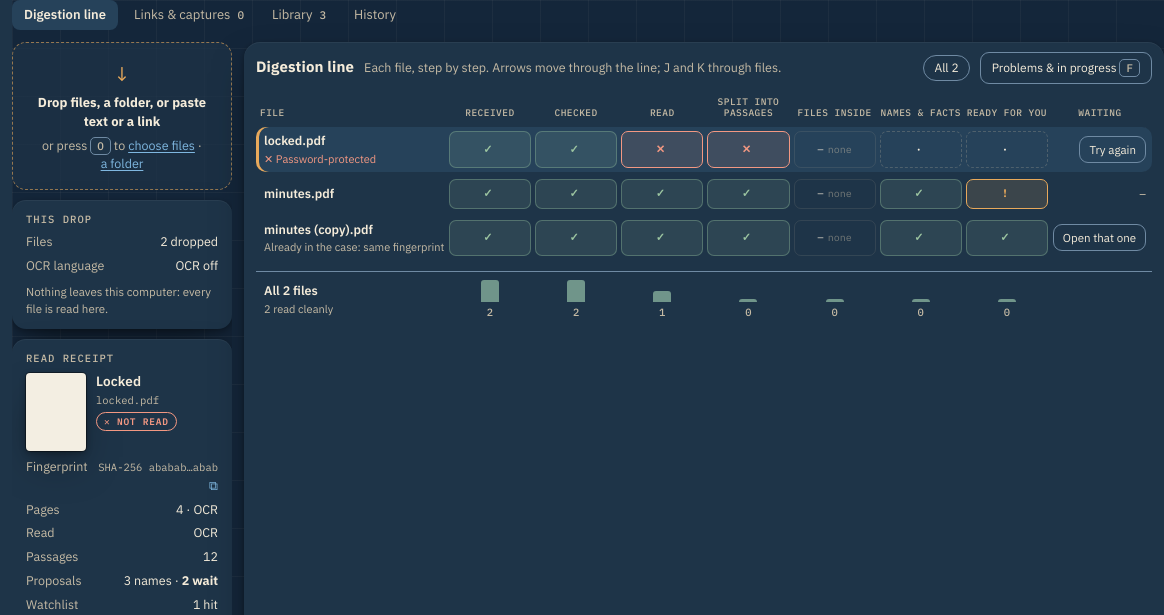
Test case: The Drop › reads a failed file again, and sends a second copy to the first
The width and height of the screenshot is (1164, 615).
Click the button "Try again": (1113, 149) [1079,136,1146,163]
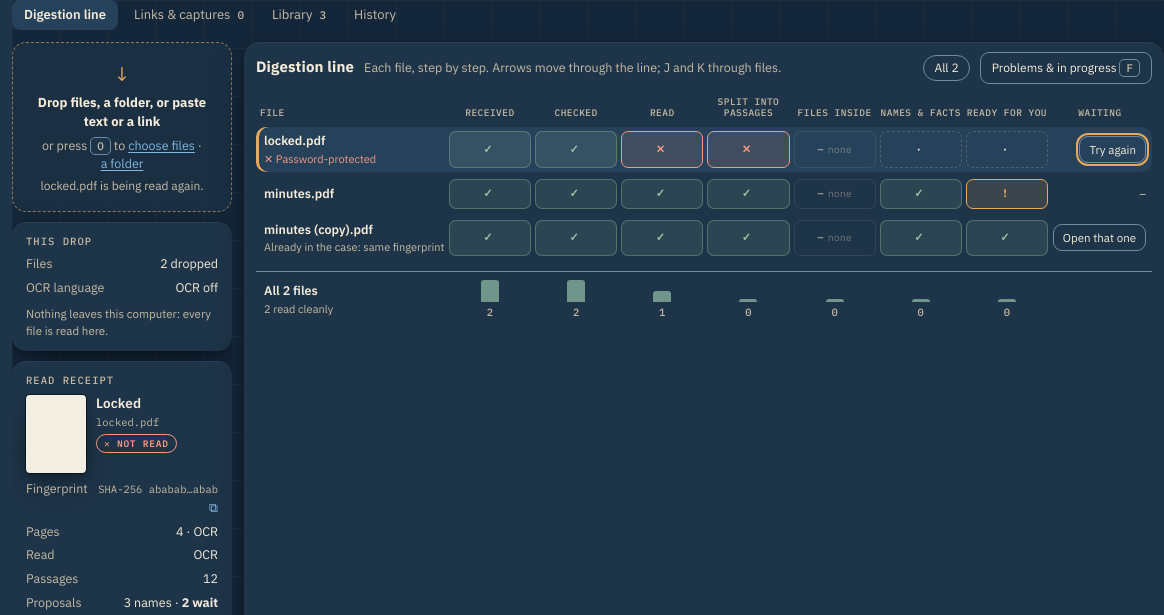
Click the button "Open that one": (1099, 238) [1053,224,1146,251]
(page scrolled)
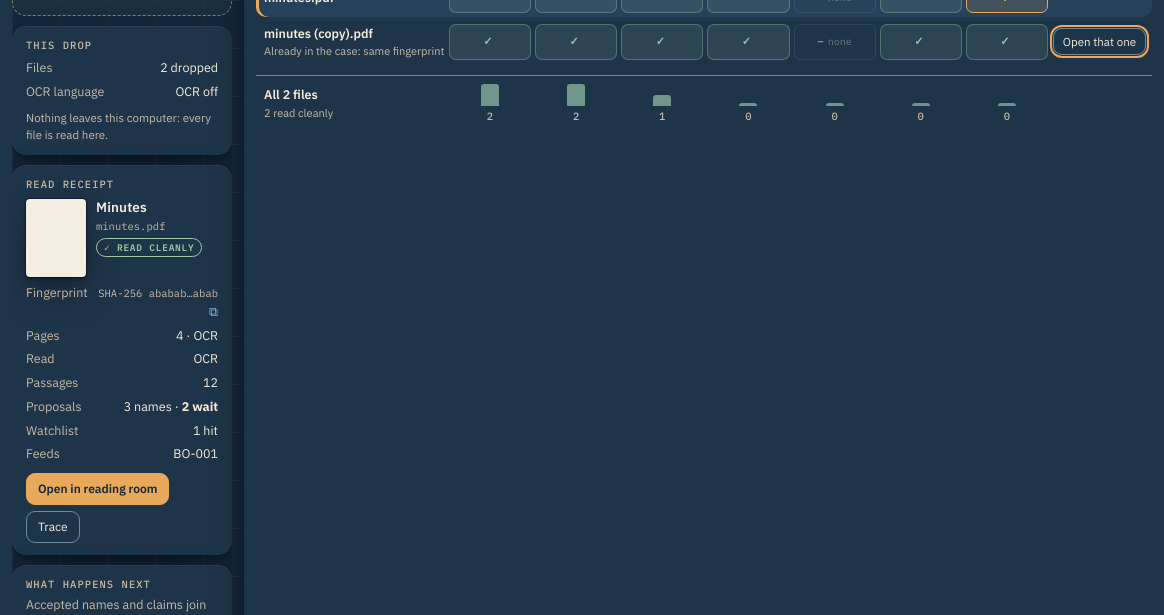
Result: the element named "Read receipt: minutes.pdf" is shown at [12,165,232,555]
